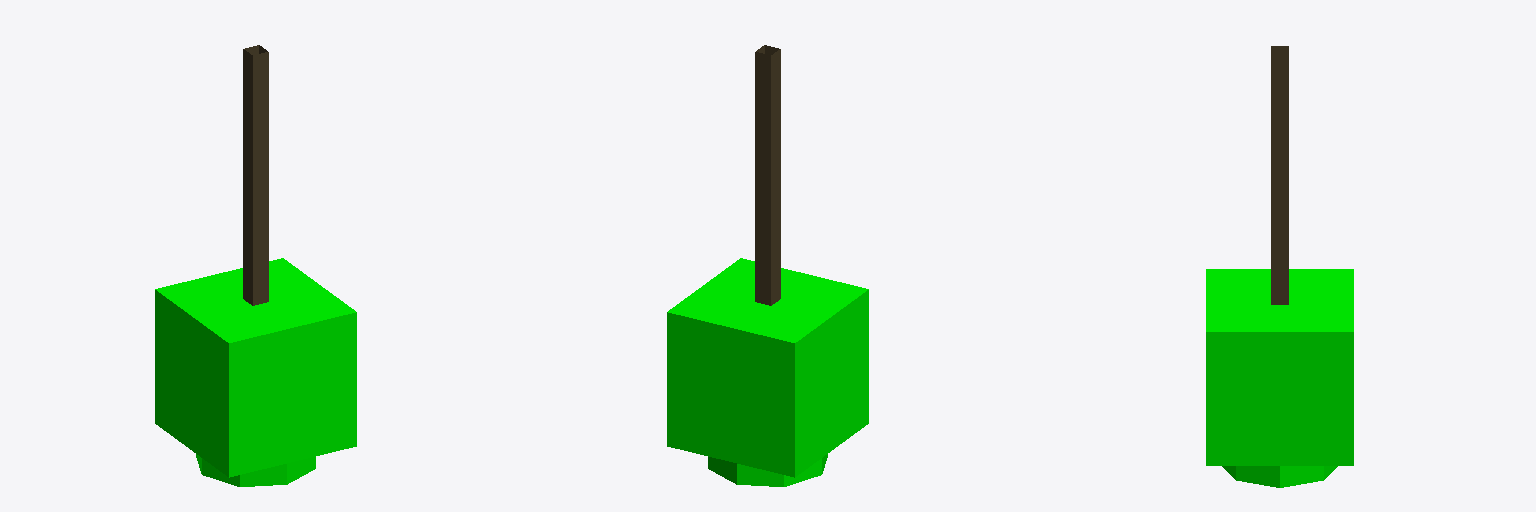
3 renders of one model, left to right at view 1: azimuth 30°, elevation 25°; view 2: azimuth 150°, elevation 25°; view 3: azimuth 270°, elevation 25°, orthographic.
Parts seen in each view (by area): view 1: Cube_Cube.001; view 2: Cube_Cube.001; view 3: Cube_Cube.001.
Part boxes in pixels (x1,y1,x2,y2): Cube_Cube.001: (155,45,356,486); Cube_Cube.001: (667,45,868,486); Cube_Cube.001: (1206,46,1353,487).
Bounding box in the file's own units: 1 × 3.07 × 1.
Materials: 2 (2 with a texture image).